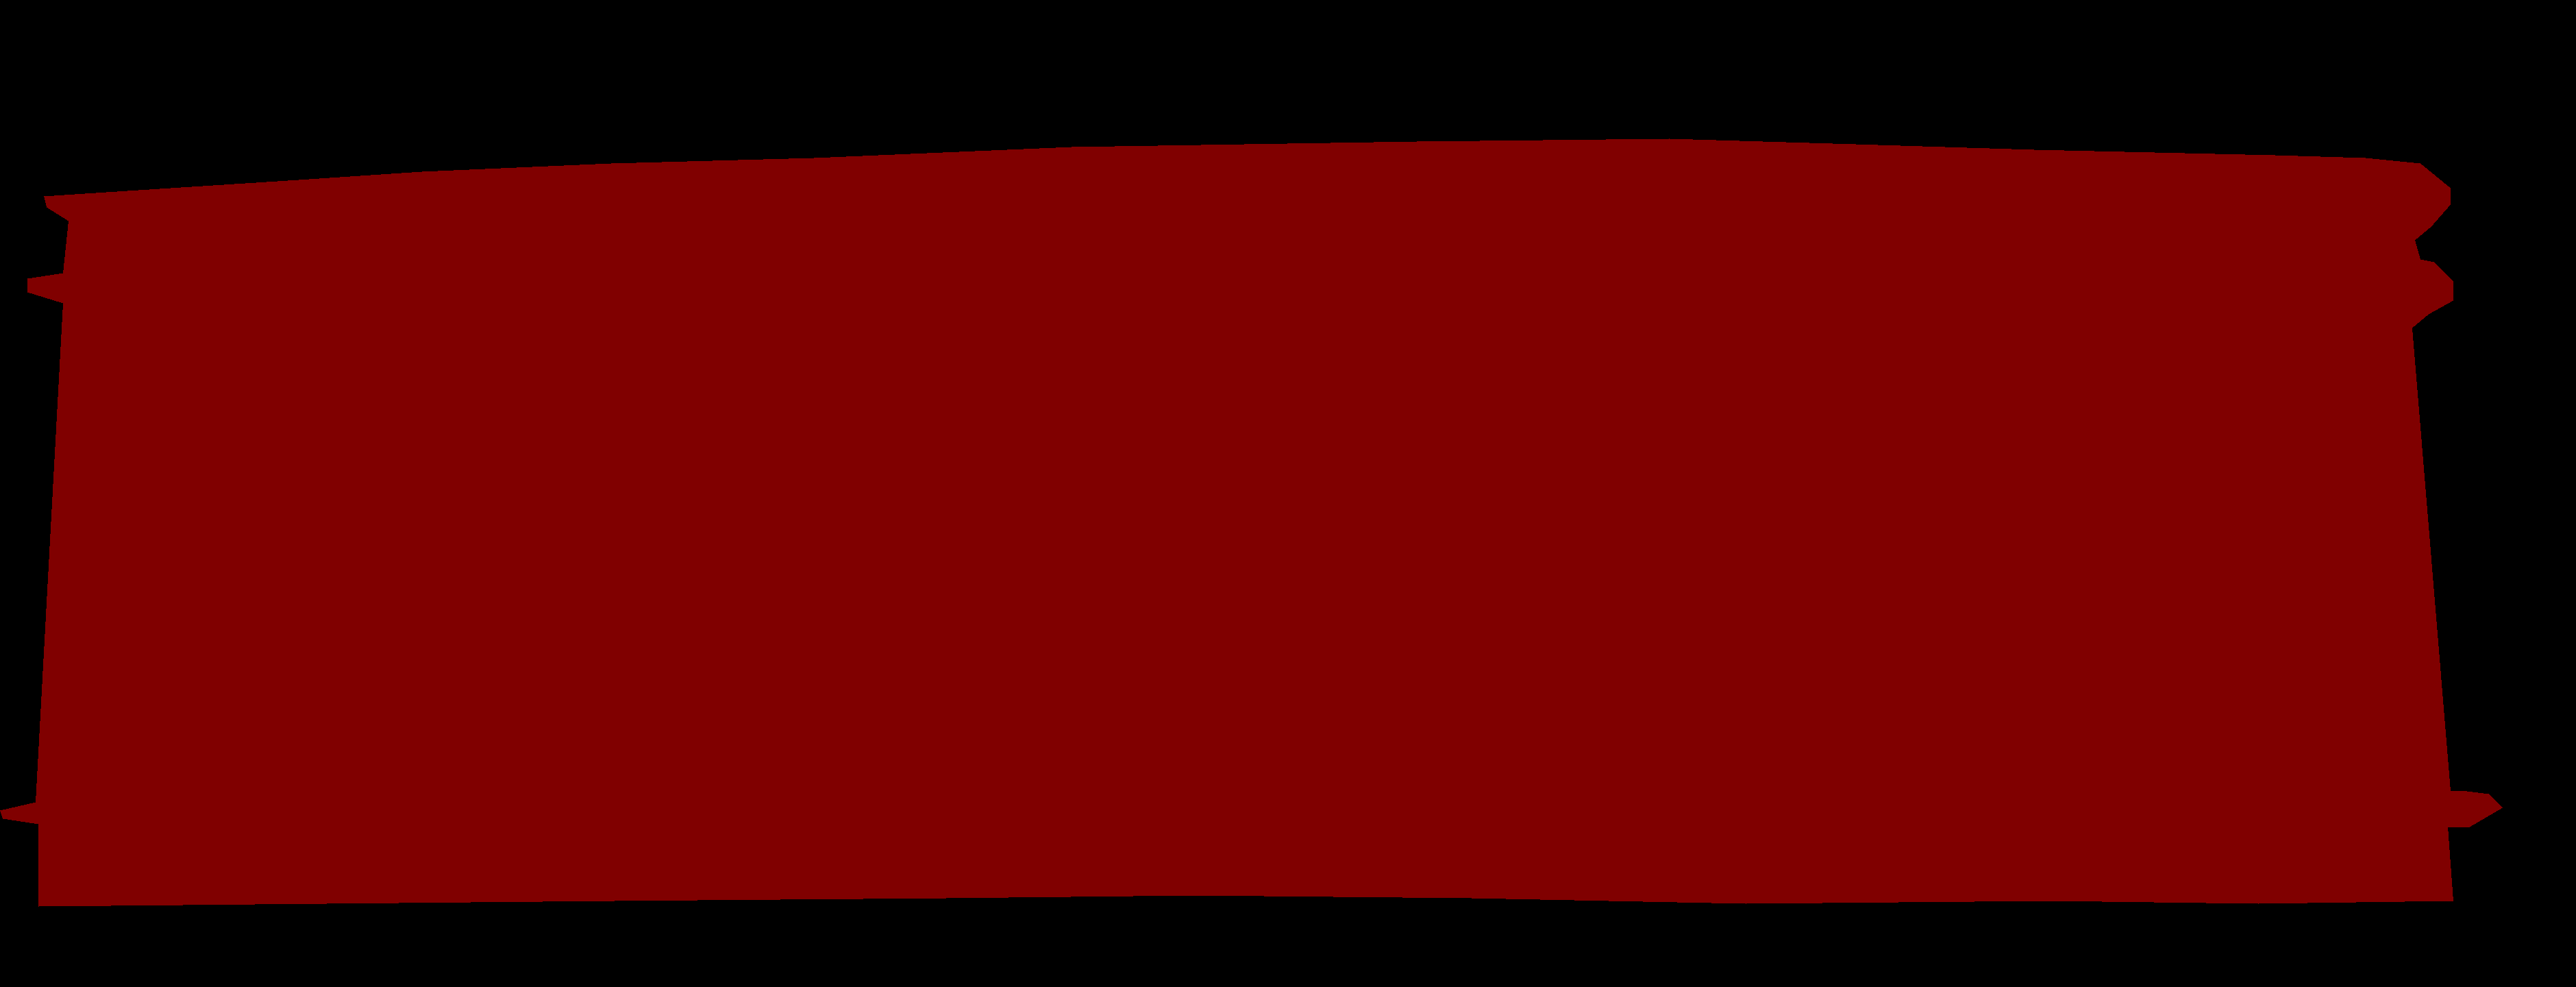sign: (0, 138, 2502, 907)
